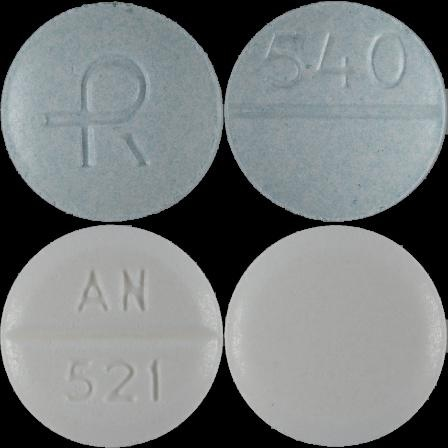0904-6238: (0, 0, 224, 224)
